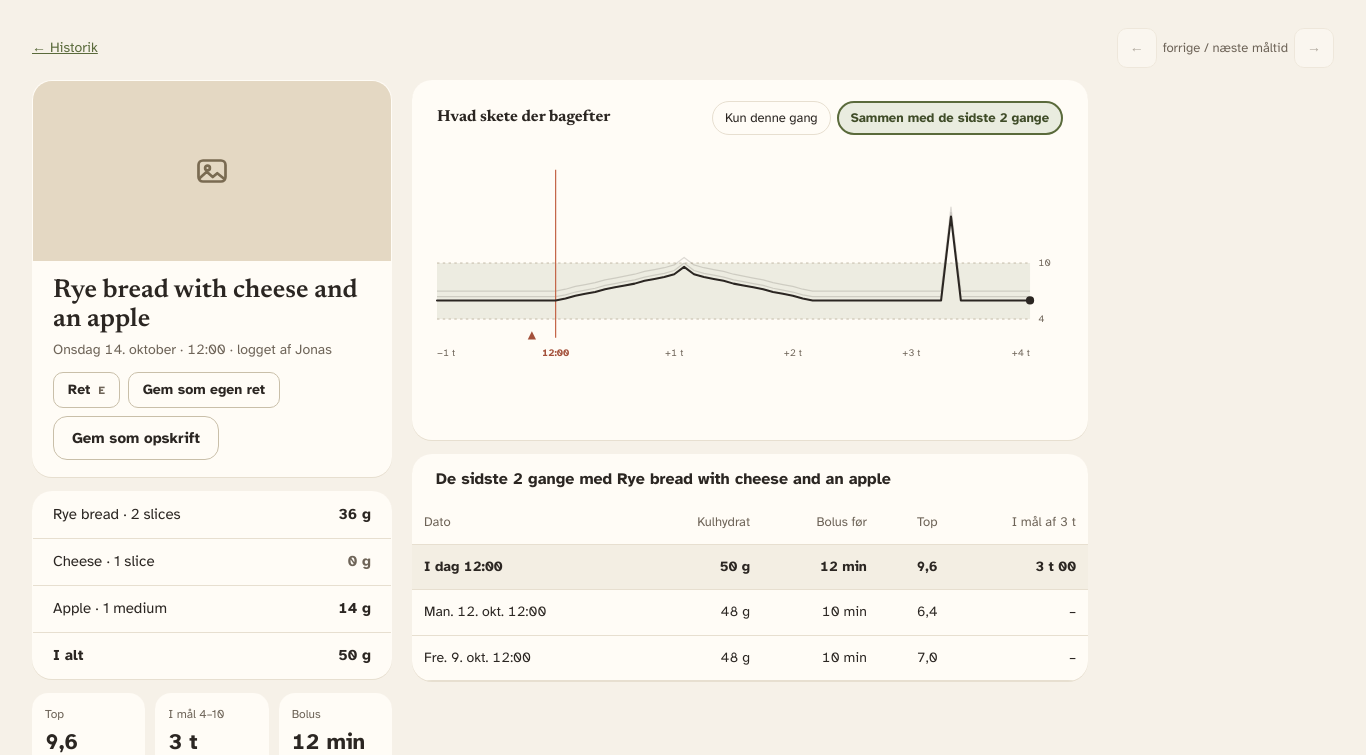
Test case: save as own dish › retries a failed create
This screenshot has width=1366, height=755.
Click the button "Gem som egen ret": (204, 390) [128,372,280,408]
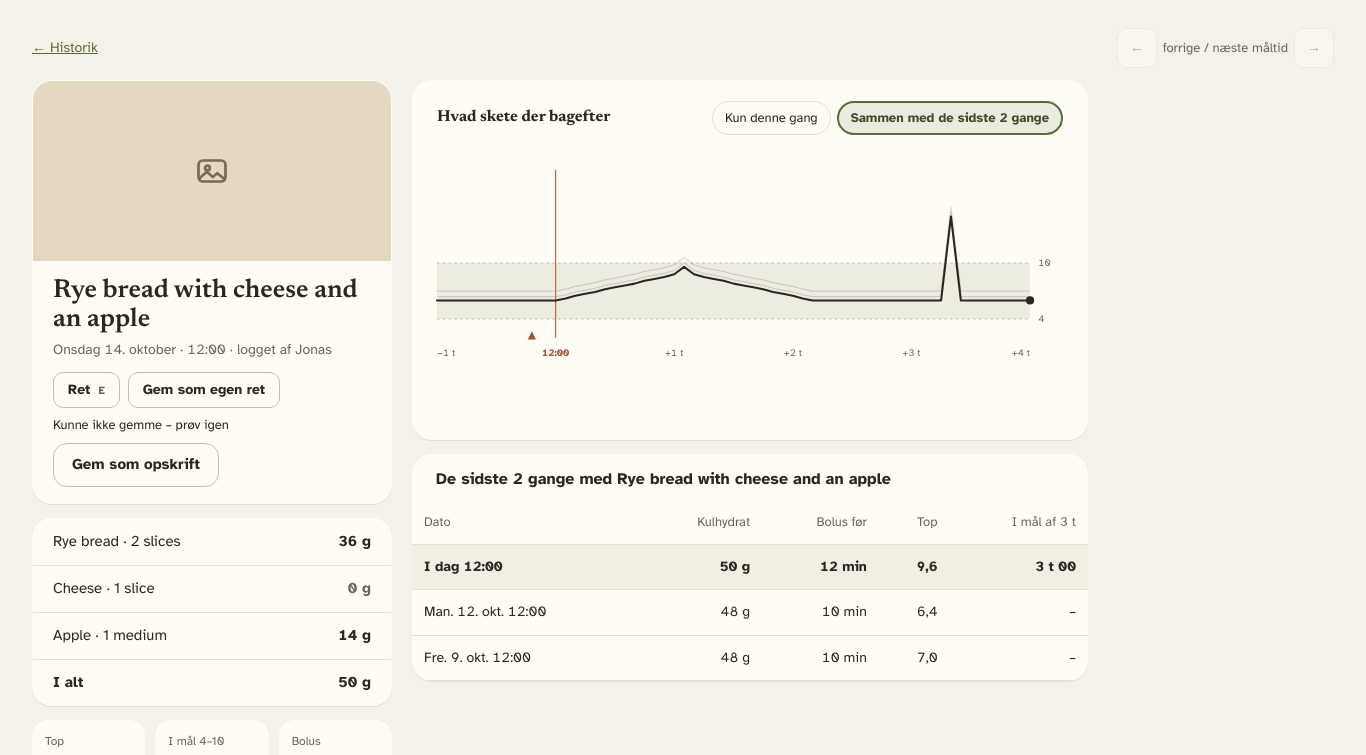
Check: the message reads "Kunne ikke gemme – prøv igen", box [53,418,229,434]
Click the button "Gem som egen ret": (204, 390) [128,372,280,408]
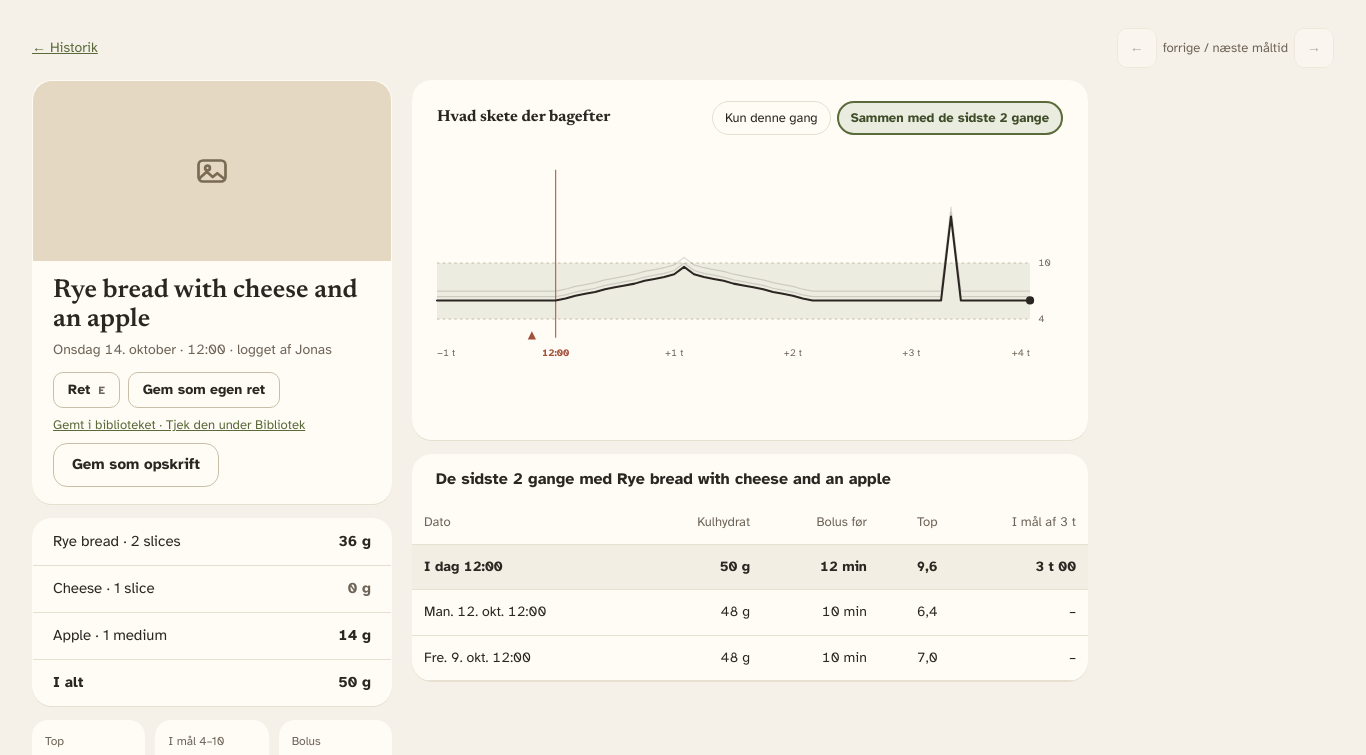
Check: the link "Gemt i biblioteket · Tjek den under Bibliotek" is shown, box [53,416,305,435]
